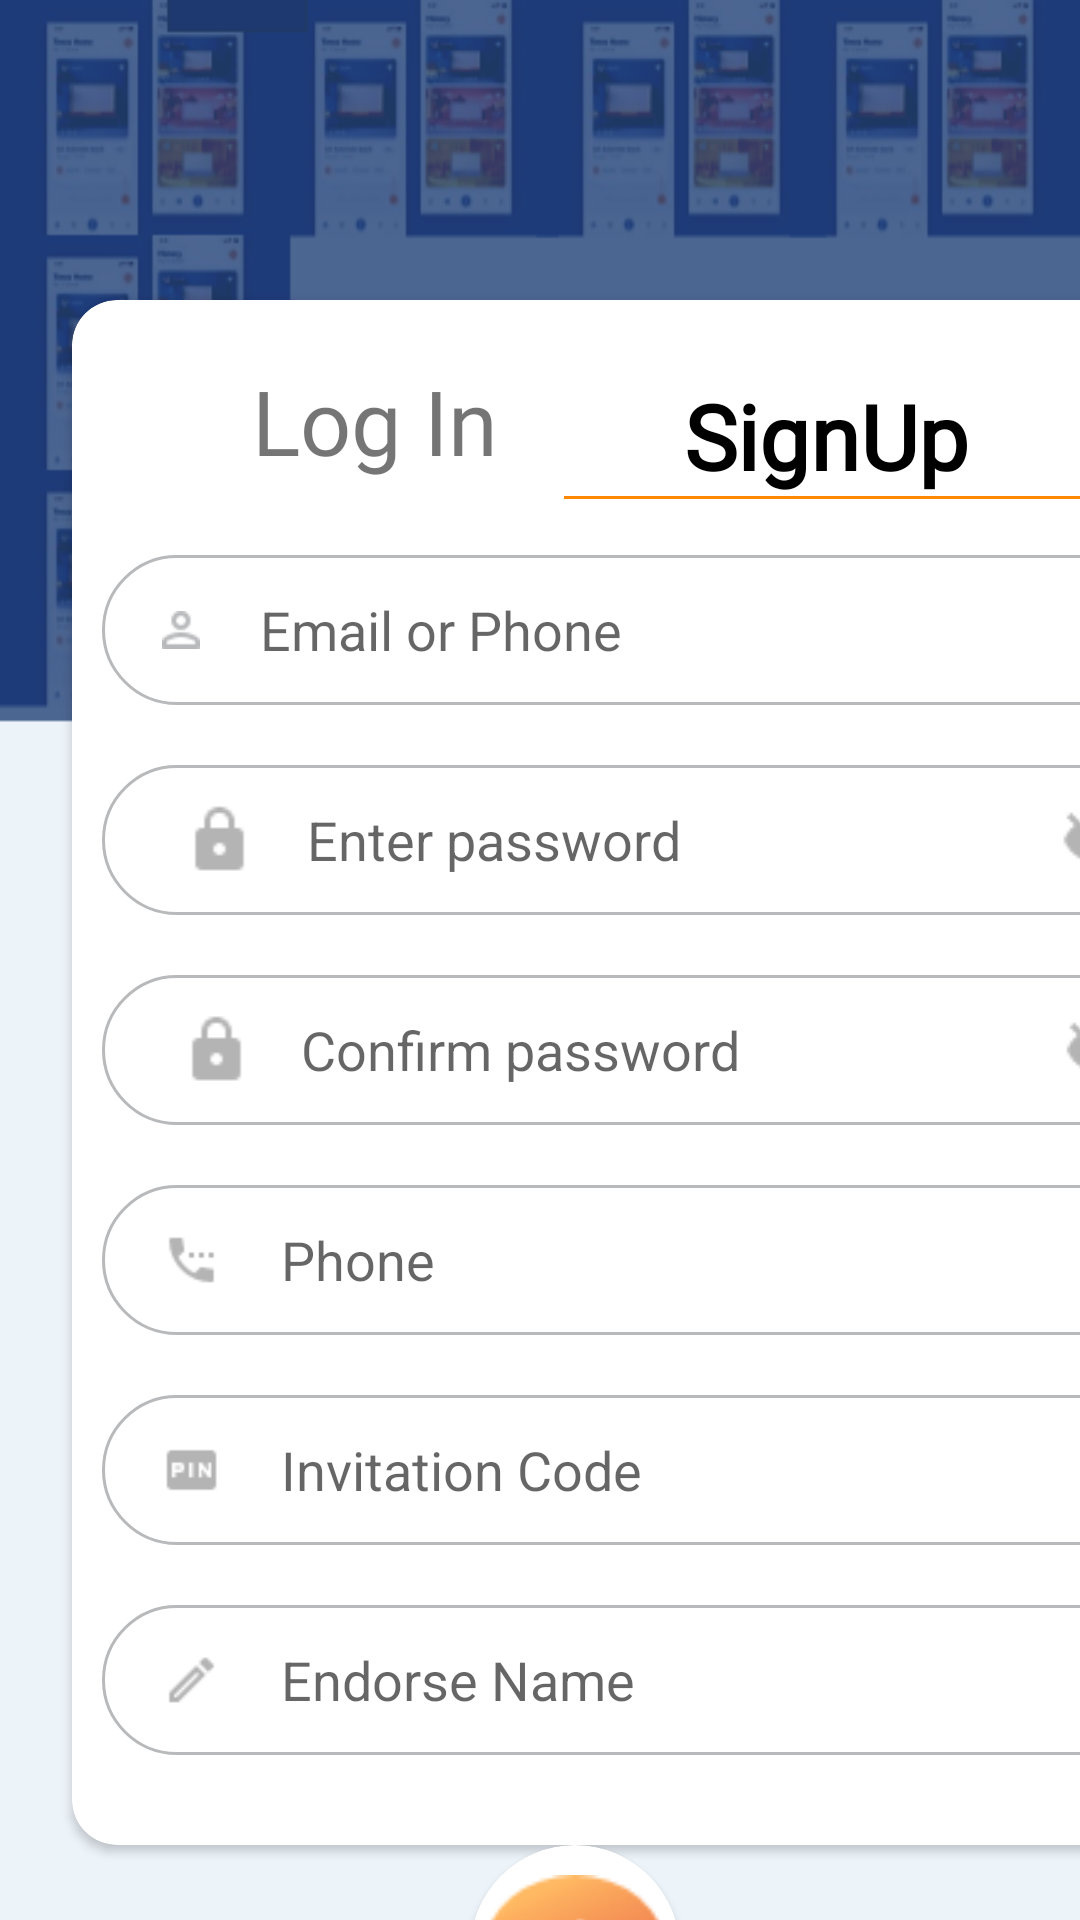

Icon bounding boxes for this 1080w x 1920h phone screenshot, format (x1=x1, y1=y1, x2=x2, y2=y2):
lock: (x1=195, y1=806, x2=244, y2=871), (x1=192, y1=1016, x2=241, y2=1081)
pencil: (x1=169, y1=1658, x2=214, y2=1703)
user: (x1=162, y1=611, x2=200, y2=649)
